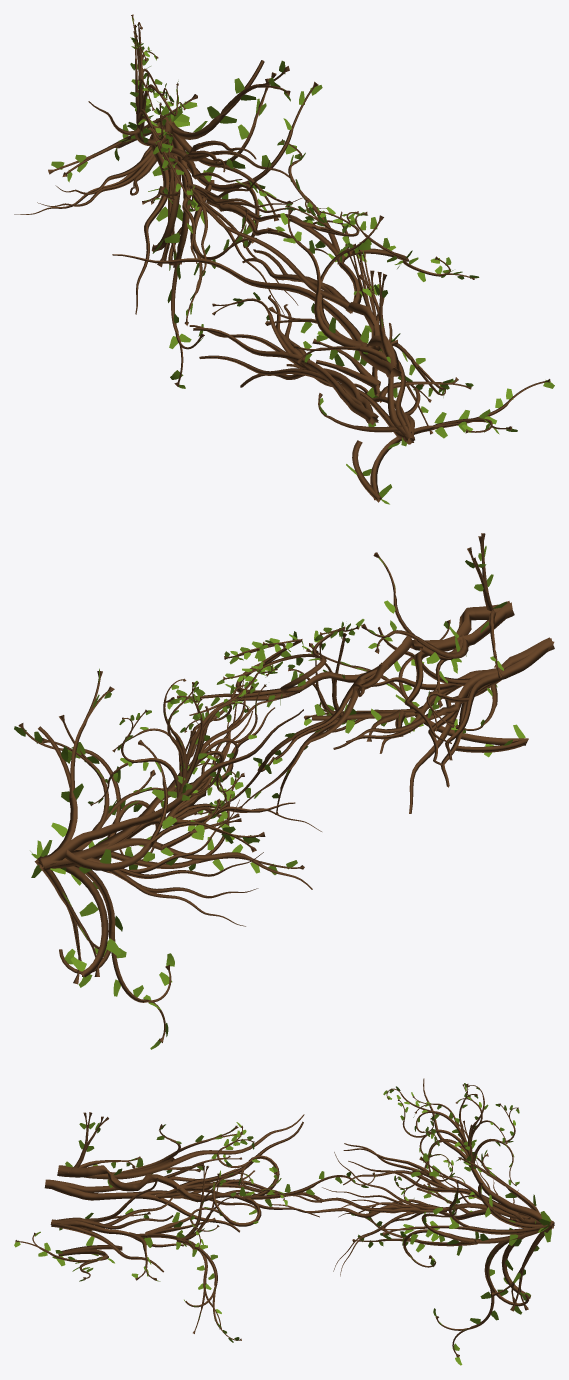
File: 藤曼附材质(2).fbx
3 renders of one model, top to bottom at view 1: azimuth 30°, elevation 25°; view 2: azimuth 150°, elevation 25°; view 3: azimuth 270°, elevation 25°, orthographic. The views are drawn at different scales.
Visible parts, largest first — view 1: vineLeafyThick2Main, onion6Main, vineLeafyThick2Leaf, onion4Main, onion2Main, vineLeafyThick3Main, vineLeafyThick7Main, onion5Main, onion3Main, vineLeafy3Main, onion7Main, vineLeafy7Main (+13 smaller); view 2: vineLeafyThick2Main, onion2Main, vineLeafyThick7Main, onion6Main, vineLeafyThick2Leaf, onion4Main, vineLeafyThick3Main, vineLeafyThick7Leaf, onion1Main, vineLeafyThick3Leaf, vineLeafyThick1Main, vineLeafyThick4Main (+12 smaller); view 3: vineLeafyThick2Main, onion6Main, onion2Main, vineLeafyThick7Main, onion5Main, vineLeafyThick2Leaf, onion4Main, vineLeafyThick3Main, vineLeafyThick4Main, vineLeafyThick7Leaf, onion7Main, onion3Main (+14 smaller).
Part boxes in pixels (x1,y1,x2,y2): vineLeafyThick2Main: (151, 60, 318, 386); onion6Main: (112, 211, 401, 378); vineLeafyThick2Leaf: (152, 60, 322, 388); onion4Main: (193, 327, 378, 425); onion2Main: (88, 101, 242, 314); vineLeafyThick3Main: (281, 139, 474, 279); vineLeafyThick7Main: (131, 14, 195, 211); onion5Main: (286, 297, 424, 444); onion3Main: (186, 160, 326, 315); vineLeafy3Main: (265, 208, 383, 346); onion7Main: (199, 201, 352, 313); vineLeafy7Main: (352, 379, 550, 502); vineLeafyThick2Main: (18, 671, 171, 1042); onion2Main: (38, 709, 312, 889); vineLeafyThick7Main: (90, 665, 272, 807); onion6Main: (189, 601, 514, 743); vineLeafyThick2Leaf: (14, 668, 174, 1049); onion4Main: (409, 637, 554, 813); vineLeafyThick3Main: (166, 625, 359, 702); vineLeafyThick7Leaf: (88, 661, 273, 807); onion1Main: (86, 799, 263, 926); vineLeafyThick3Leaf: (167, 619, 364, 709); vineLeafyThick1Main: (65, 740, 265, 870); vineLeafyThick4Main: (194, 633, 351, 814); vineLeafyThick2Main: (381, 1156, 552, 1357); onion6Main: (57, 1114, 319, 1217); onion2Main: (348, 1078, 554, 1229); vineLeafyThick7Main: (386, 1084, 518, 1202); onion5Main: (50, 1177, 183, 1272); vineLeafyThick2Leaf: (402, 1153, 551, 1365); onion4Main: (44, 1168, 245, 1232); vineLeafyThick3Main: (190, 1125, 374, 1248); vineLeafyThick4Main: (176, 1166, 241, 1340); vineLeafyThick7Leaf: (383, 1083, 519, 1200); onion7Main: (176, 1121, 322, 1202); onion3Main: (322, 1152, 446, 1276).
Bounding box in the file's own units: 632 × 707 × 1295.
